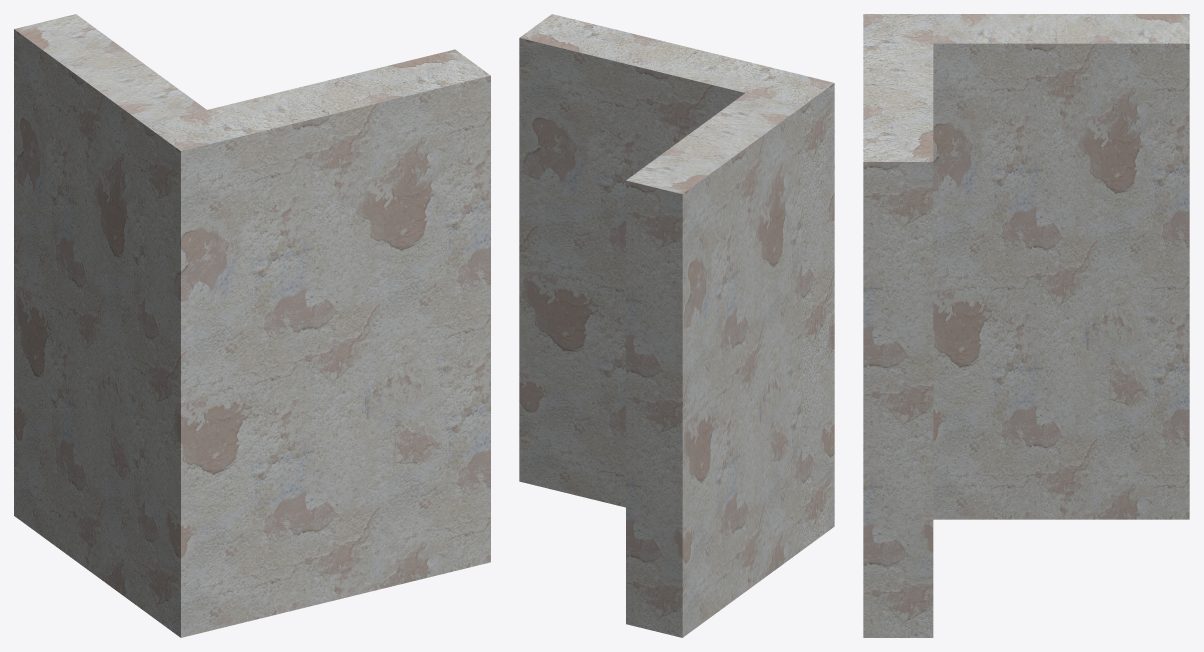
The model's file is terminal_kose_wall_01.glb.
3 views of the same model, side by side, from view 1: azimuth 30°, elevation 25°; view 2: azimuth 150°, elevation 25°; view 3: azimuth 270°, elevation 25° (orthographic). The views are drawn at different scales.
Parts seen in each view (by area): view 1: Cube, Cube.001; view 2: Cube.001, Cube; view 3: Cube.001, Cube.
Boxes of the visible parts, bbox=[...] form: Cube: bbox=[145, 49, 490, 637]; Cube.001: bbox=[14, 14, 206, 611]; Cube.001: bbox=[626, 93, 802, 637]; Cube: bbox=[519, 14, 834, 549]; Cube.001: bbox=[933, 14, 1189, 519]; Cube: bbox=[863, 14, 933, 637].
Bounding box in the file's own units: 4 × 6 × 3.73.
2 materials, 2 textured.
